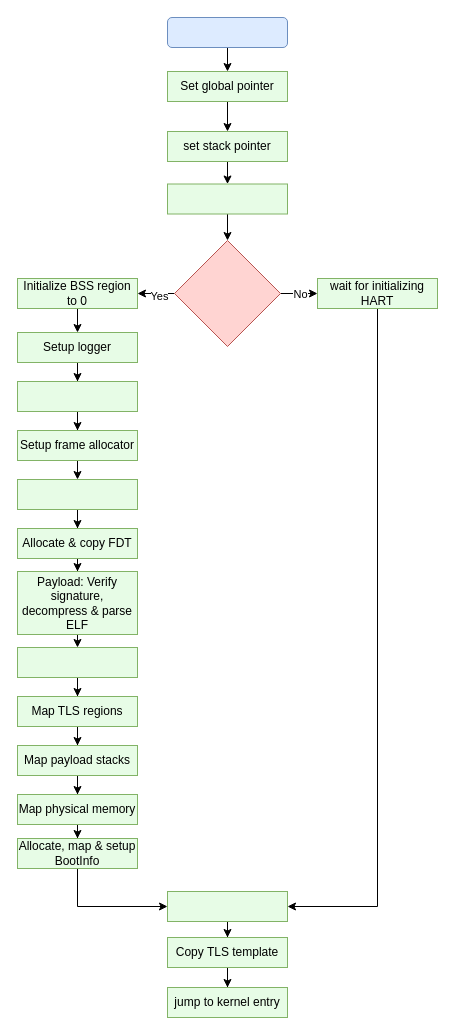
The diagram is 455 pixels wide and 1035 high, and some of its shapes have lost their labels. Each missing label, with the centre of its shape:
"Enable MMU" goes at (227,906).
"fill stack region with canary pattern" goes at (227,198).
"hartid == 0" goes at (227,293).
"Map payload ELF" goes at (77,662).
"Parse FDT into MachineInfo" goes at (77,396).
"PC is at _start" goes at (227,32).
"Setup heap allocator" goes at (77,494).
